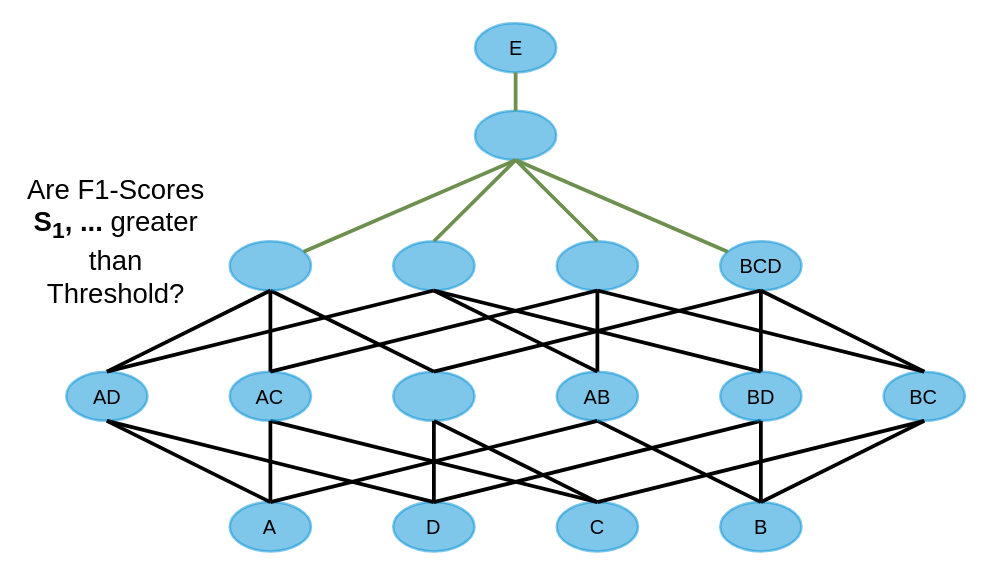
Image size: 988x574. Some labels were removed from this diagram. The shapes that lost their labels are listed below. From the top down, each one's centre as x and y in pixels, then its label:
At (x=515, y=135): "ABCD".
At (x=270, y=265): "ACD".
At (x=433, y=265): "ABD".
At (x=597, y=265): "ABC".
At (x=433, y=396): "CD".
